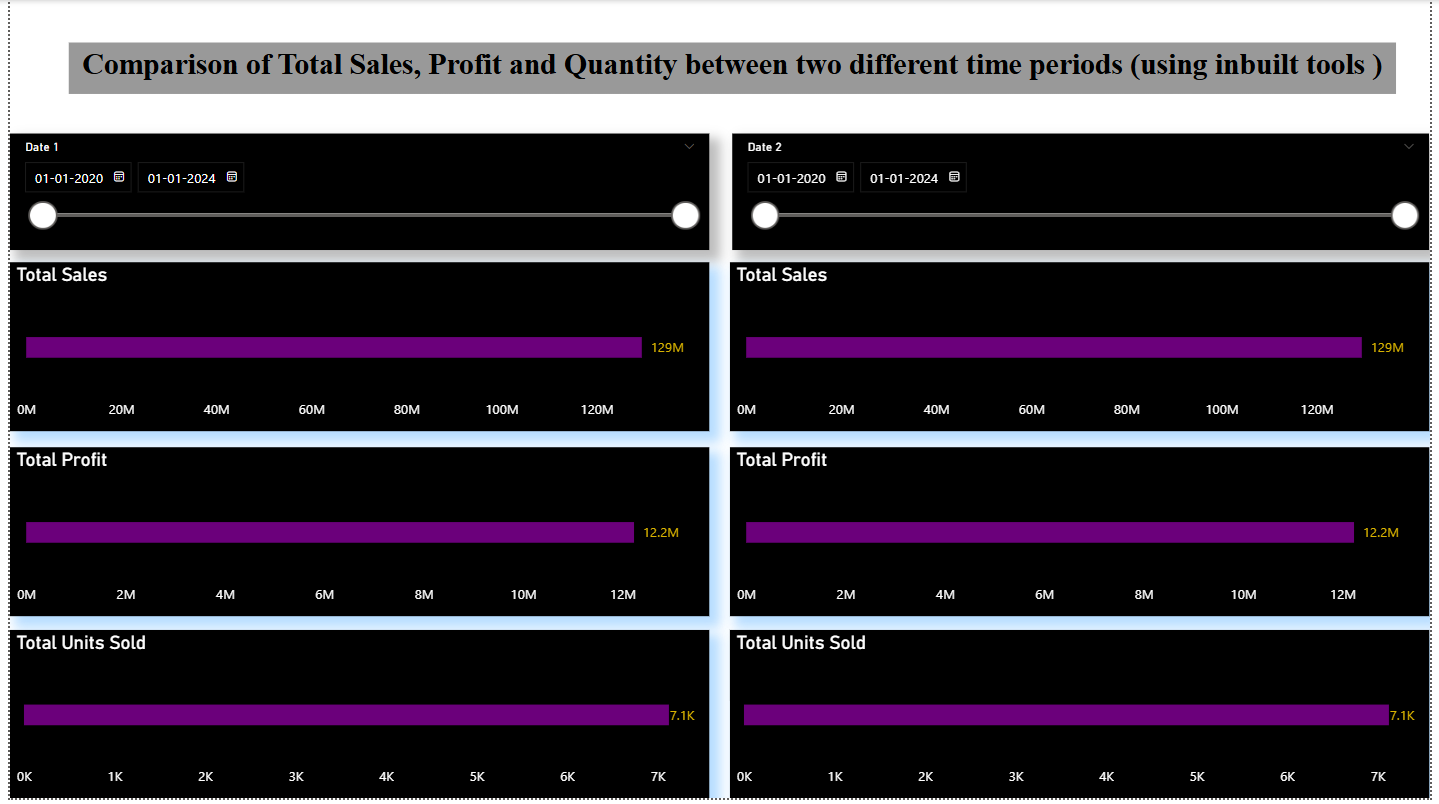

What the dashboard file says about the page in this screenshot:
{"tool":"powerbi","page":{"name":"Total Sales/Profit/Quantity b/w two different time periods 2","canvas":[1280,720],"ordinal":4},"visuals":[{"type":"slicer","fields":{"Values":["Fact table.Date (dd/mm/yyyy)"]},"box":[0,120.7,630.7,104.5],"z":0},{"type":"slicer","title":"Date 1","fields":{"Values":["Fact table.Date (dd/mm/yyyy)"]},"box":[651.8,120.7,628.2,104.5],"z":1000},{"type":"clusteredBarChart","title":"Total Sales","fields":{"Y":["Sum(Fact table.Total Sales)"]},"box":[0,236.4,630.7,151.8],"z":2000},{"type":"clusteredBarChart","title":"Total Profit","fields":{"Y":["Sum(Fact table.Profit)"]},"box":[0,403,630.7,151.8],"z":3000},{"type":"clusteredBarChart","title":"Total Units Sold","fields":{"Y":["Sum(Fact table.Units Sold)"]},"box":[0,568.5,630.7,151.8],"z":4000},{"type":"clusteredBarChart","title":"Total Sales","fields":{"Y":["Sum(Fact table.Total Sales)"]},"box":[649.3,236.4,630.7,151.8],"z":5000},{"type":"clusteredBarChart","title":"Total Profit","fields":{"Y":["Sum(Fact table.Profit)"]},"box":[649.3,403,630.7,151.8],"z":6000},{"type":"clusteredBarChart","title":"Total Units Sold","fields":{"Y":["Sum(Fact table.Units Sold)"]},"box":[649.3,568.5,630.7,151.8],"z":7000},{"type":"textbox","box":[53.5,38.6,1196.7,46],"z":7001}]}

Visuals, with their boxes in screenshot pixels (x1, y1, x2, y2), scaled from the page's 1280x720 canvas onto the 1439x804 screenshot:
slicer - Fact table.Date (dd/mm/yyyy): (0,135,709,251)
"Date 1" slicer: (733,135,1438,251)
"Total Sales" clusteredBarChart: (0,264,709,433)
"Total Profit" clusteredBarChart: (0,450,709,620)
"Total Units Sold" clusteredBarChart: (0,635,709,803)
"Total Sales" clusteredBarChart: (730,264,1438,433)
"Total Profit" clusteredBarChart: (730,450,1438,620)
"Total Units Sold" clusteredBarChart: (730,635,1438,803)
textbox: (60,43,1405,94)
